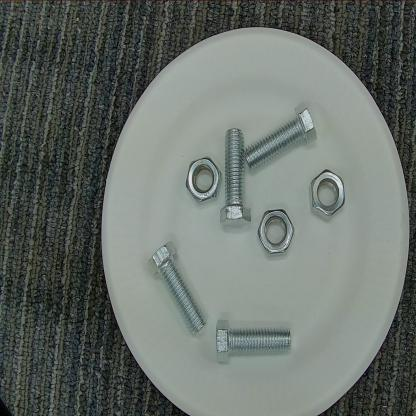FOD: (145, 241, 209, 337), (246, 102, 322, 166), (214, 318, 296, 367), (219, 128, 249, 229), (307, 166, 352, 221), (182, 154, 224, 206), (257, 208, 298, 258)
